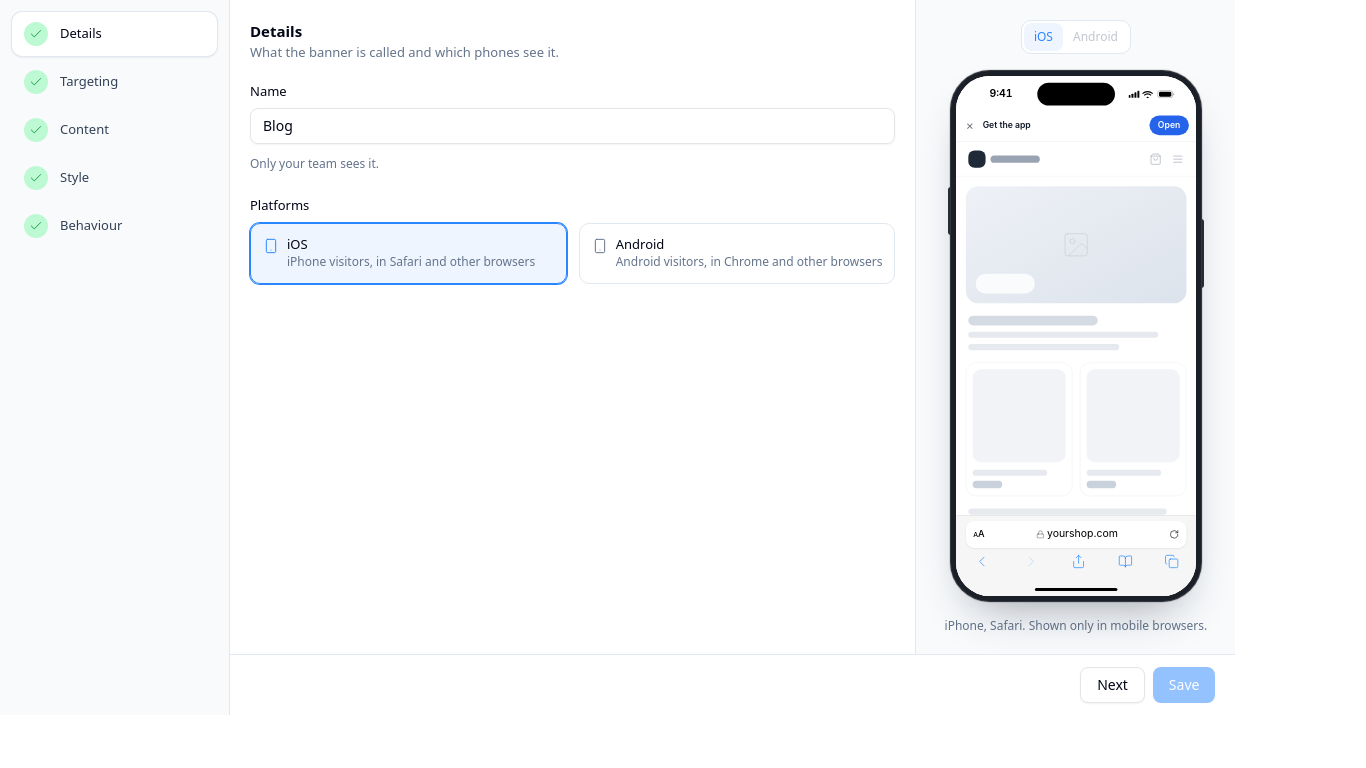
Test: SmartBannerComposer › opens an existing banner's patterns with Show on all pages off
Click the button "Targeting".
click(114, 82)  # box [12,60,217,104]
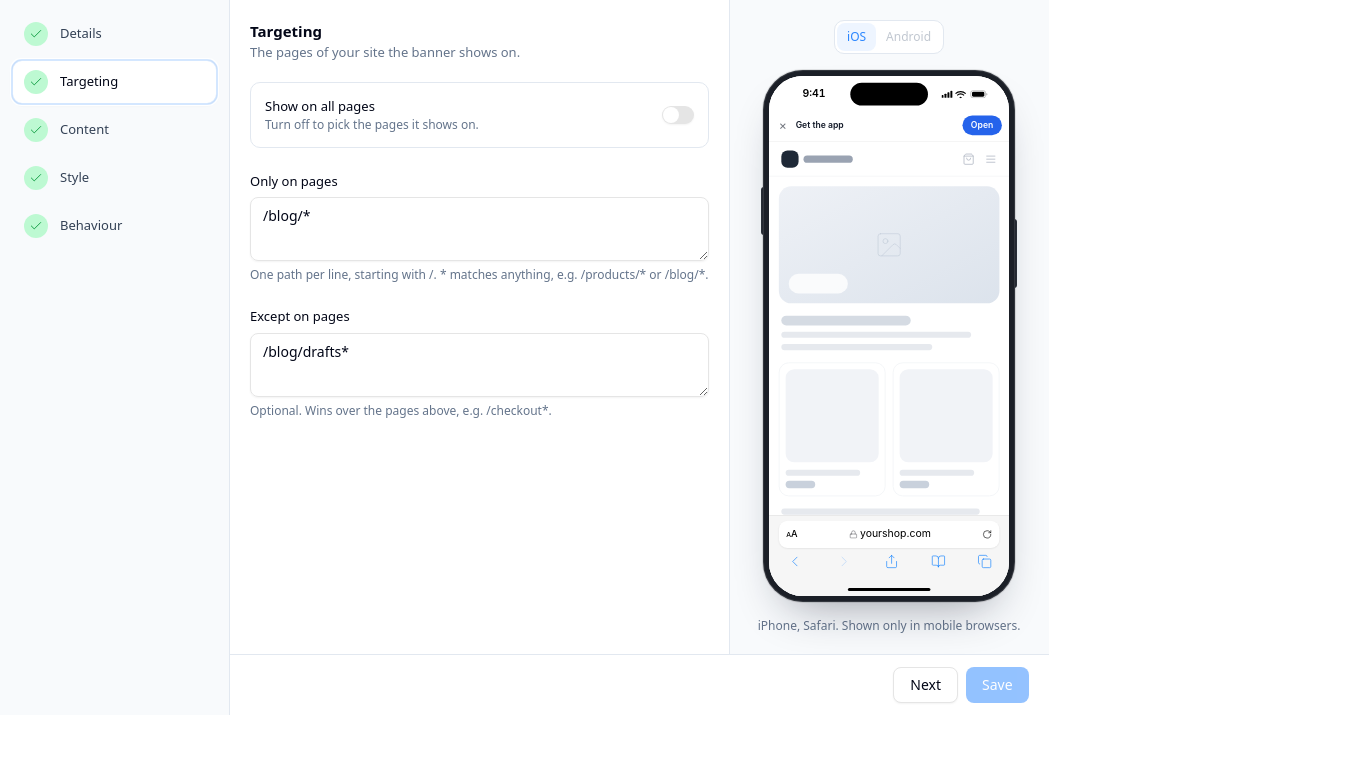
Now the switch named "Show on all pages" is not checked, box [662,106,694,124]
Now the text box labelled "Only on pages" holds "/blog/*", box [250,197,708,261]
Now the text box labelled "Except on pages" holds "/blog/drafts*", box [250,332,708,396]
